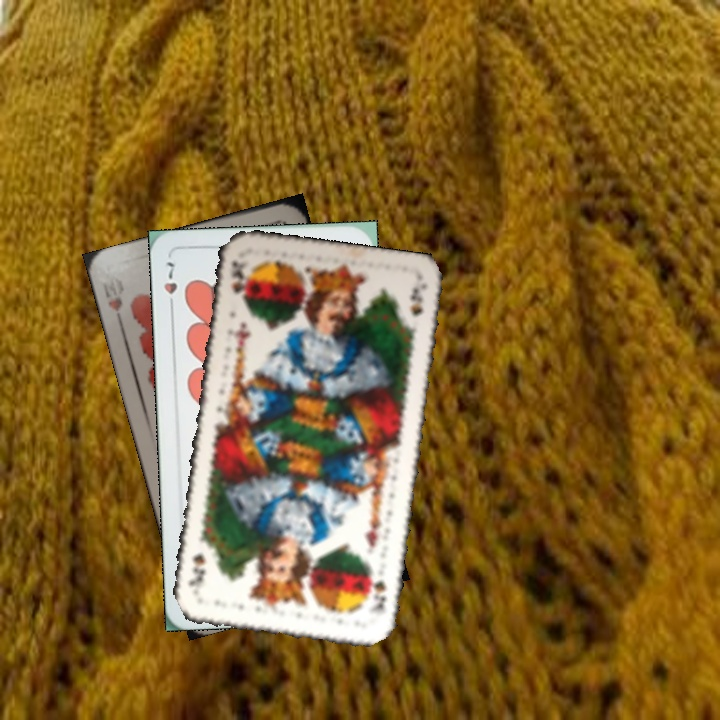H10: (104, 292, 126, 331)
H7: (160, 258, 180, 314)
SK: (365, 564, 389, 613), (227, 256, 249, 305)
